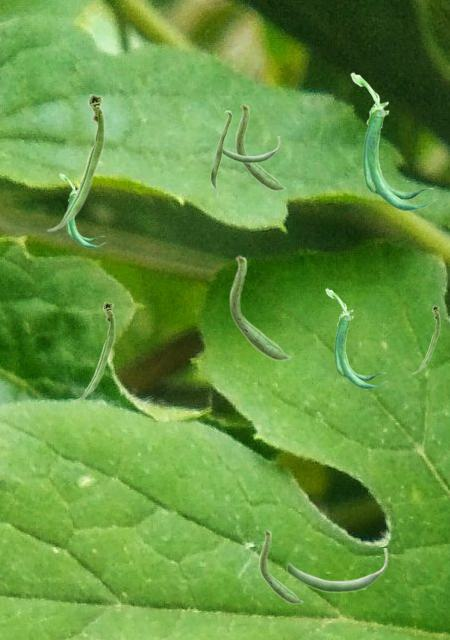french_bean: (350, 72, 434, 210), (46, 93, 104, 231), (229, 254, 290, 360), (325, 288, 386, 388), (286, 548, 387, 592), (235, 103, 285, 190), (72, 301, 114, 401), (59, 173, 104, 247), (259, 529, 302, 603), (411, 305, 439, 373), (210, 110, 231, 197), (223, 136, 279, 162)
